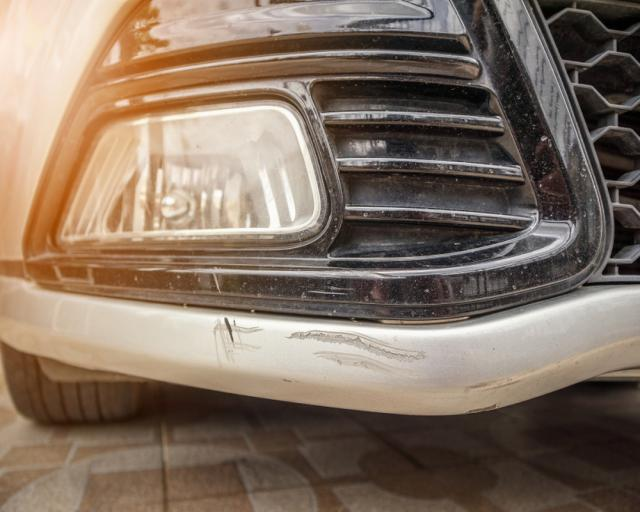scratch: (285, 323, 432, 374), (293, 267, 405, 299), (210, 312, 265, 368), (458, 369, 520, 417)
